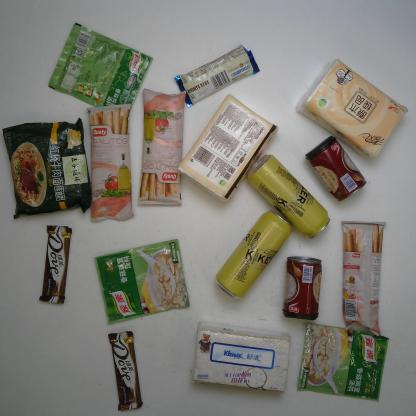Alcohol: (216, 210, 296, 300), (248, 154, 330, 238)
Canned Food: (307, 136, 366, 202), (283, 252, 321, 322)
Chocolate: (173, 45, 260, 110), (108, 330, 144, 412), (38, 223, 73, 306)
Dessert: (84, 99, 134, 223), (137, 88, 186, 209), (338, 219, 386, 336)
Instant Noodles: (1, 119, 96, 217)
Seasoner: (48, 23, 153, 114), (92, 238, 190, 325), (296, 322, 389, 402)
Tissue: (297, 58, 410, 158), (176, 95, 278, 204), (190, 320, 291, 396)
